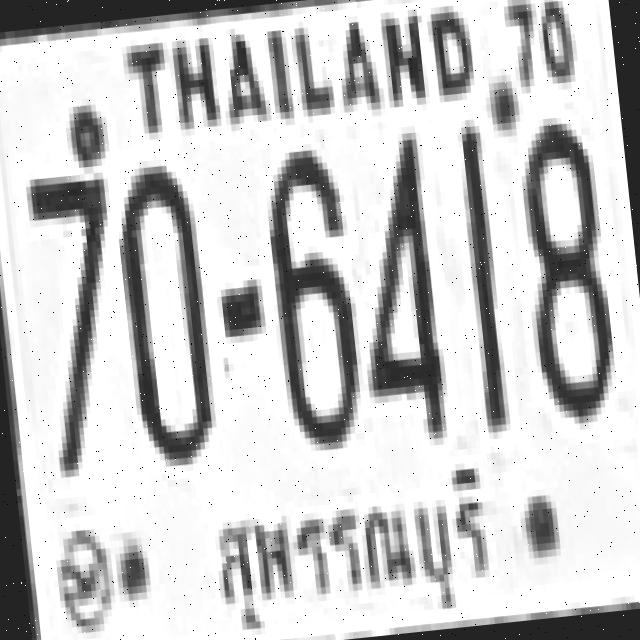0: (108, 156, 216, 462)
1: (453, 122, 508, 422)
4: (342, 129, 447, 441)
6: (258, 142, 362, 446)
7: (24, 169, 128, 474), (24, 168, 119, 380)
8: (511, 115, 615, 420)
SuphanBuri: (198, 457, 502, 640)
